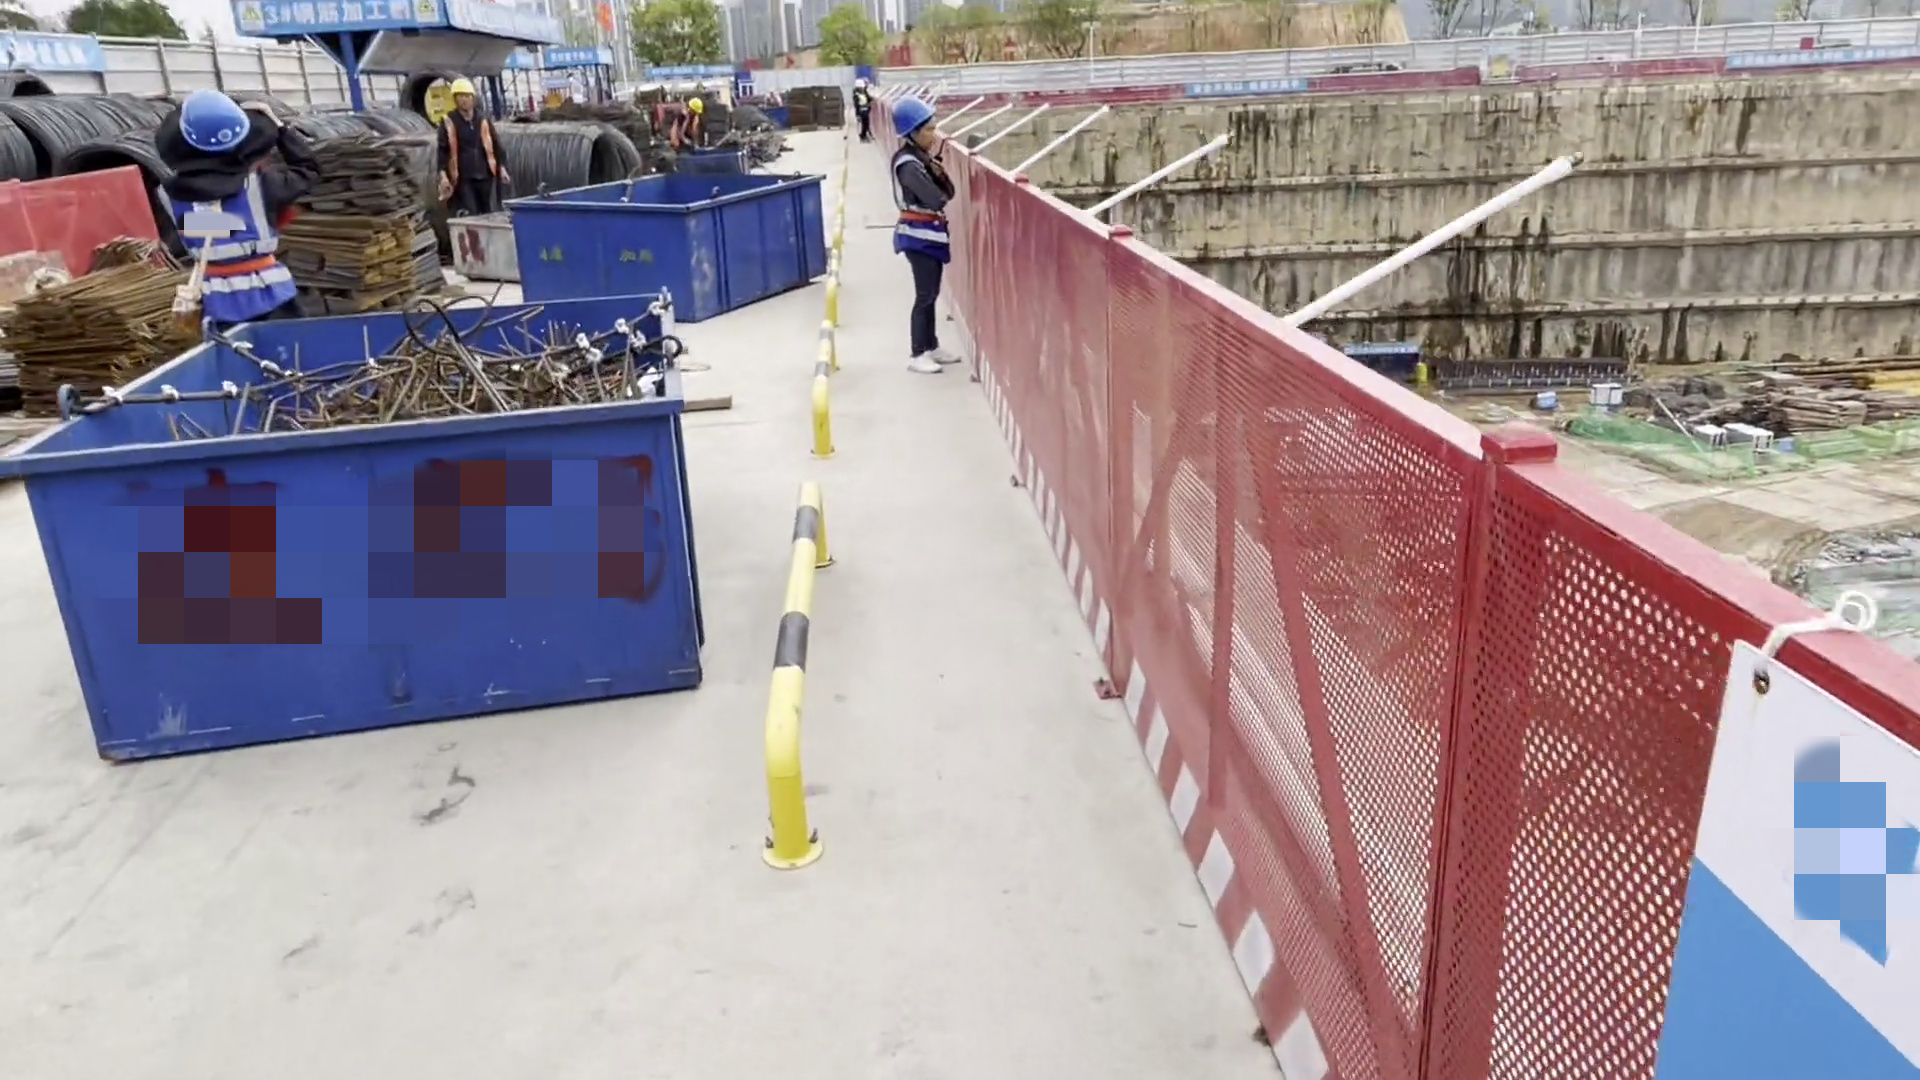fence: (973, 157, 1920, 1080), (1358, 50, 1730, 83)
helmet: (179, 99, 241, 152), (893, 97, 937, 131), (455, 76, 486, 99), (688, 96, 705, 112), (852, 76, 870, 88)
hopper: (1, 292, 702, 779), (517, 171, 827, 333), (442, 223, 519, 272), (681, 145, 757, 187)
person: (145, 85, 281, 324), (885, 91, 966, 384), (436, 71, 501, 216), (853, 75, 883, 151), (668, 95, 709, 151)
slogan: (255, 8, 429, 32), (1, 30, 99, 70), (1193, 76, 1329, 101), (470, 7, 570, 40), (543, 45, 602, 67)
vest: (151, 175, 270, 294), (445, 112, 514, 185), (883, 157, 942, 231), (676, 115, 705, 142), (856, 94, 868, 114)
